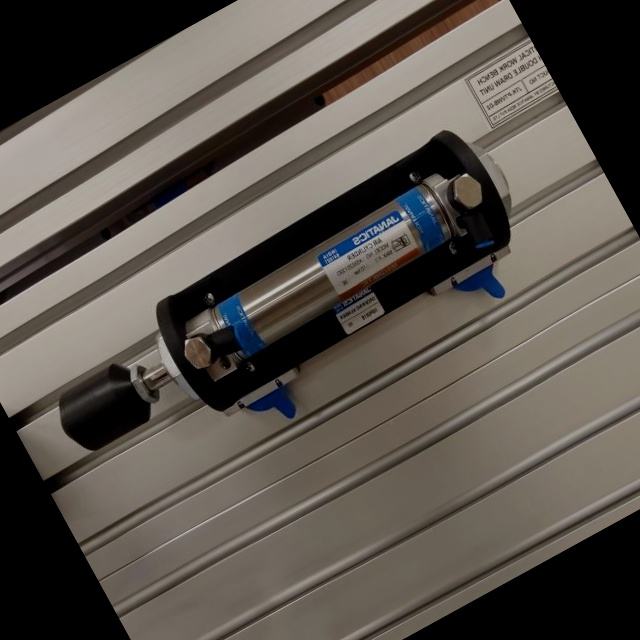double acting pneumatic cylinder: (14, 104, 566, 530)
